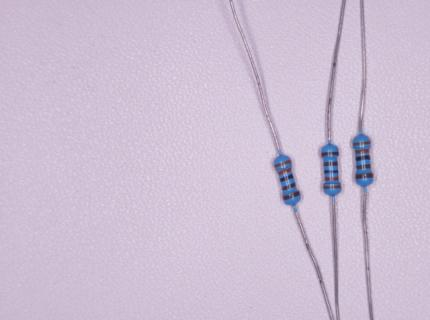Black band: (280, 174, 293, 182), (356, 155, 371, 161), (324, 170, 338, 174)
Brown band: (282, 191, 300, 200), (282, 183, 295, 191), (356, 173, 373, 179), (321, 152, 339, 157), (324, 161, 338, 166), (356, 164, 370, 169)
Orange band: (274, 159, 291, 168), (278, 167, 291, 175), (352, 141, 371, 145), (355, 149, 370, 154), (323, 185, 341, 189), (325, 177, 339, 181)
